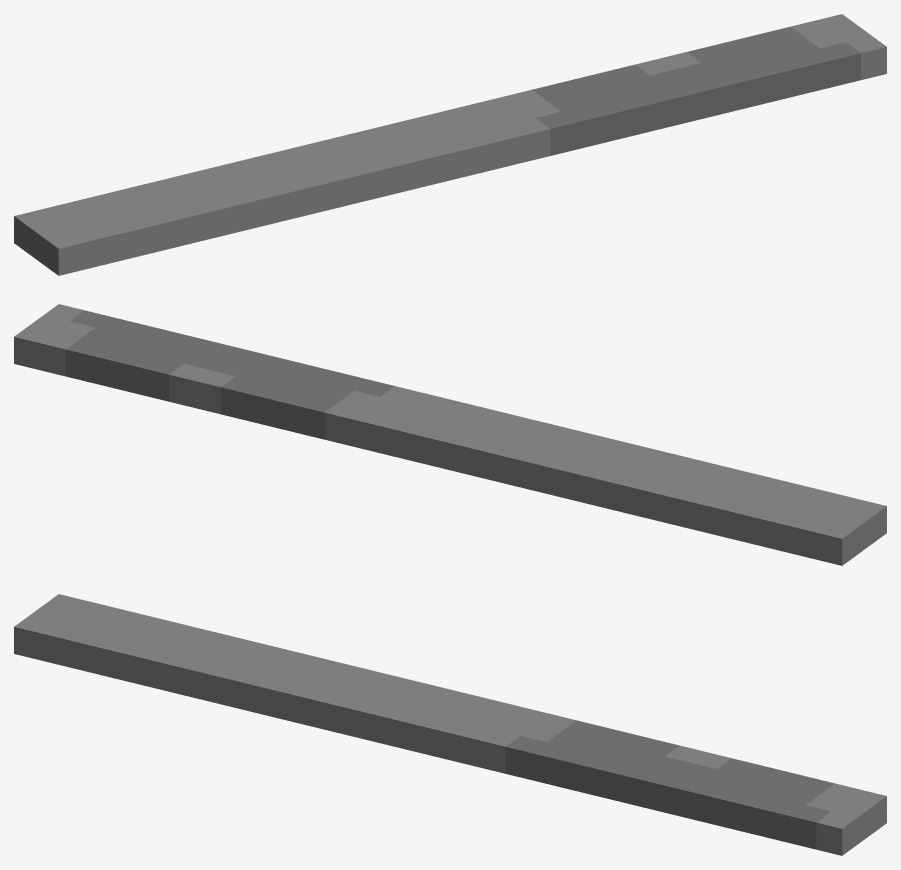
The model's file is obj_curb8.obj.
The picture shows the model from 3 angles, top to bottom: view 1: azimuth 30°, elevation 25°; view 2: azimuth 150°, elevation 25°; view 3: azimuth 330°, elevation 25°; orthographic projection.
Bounding box in the file's own units: 3.2 × 0.1 × 0.3.
Materials: 1 (1 with a texture image).
